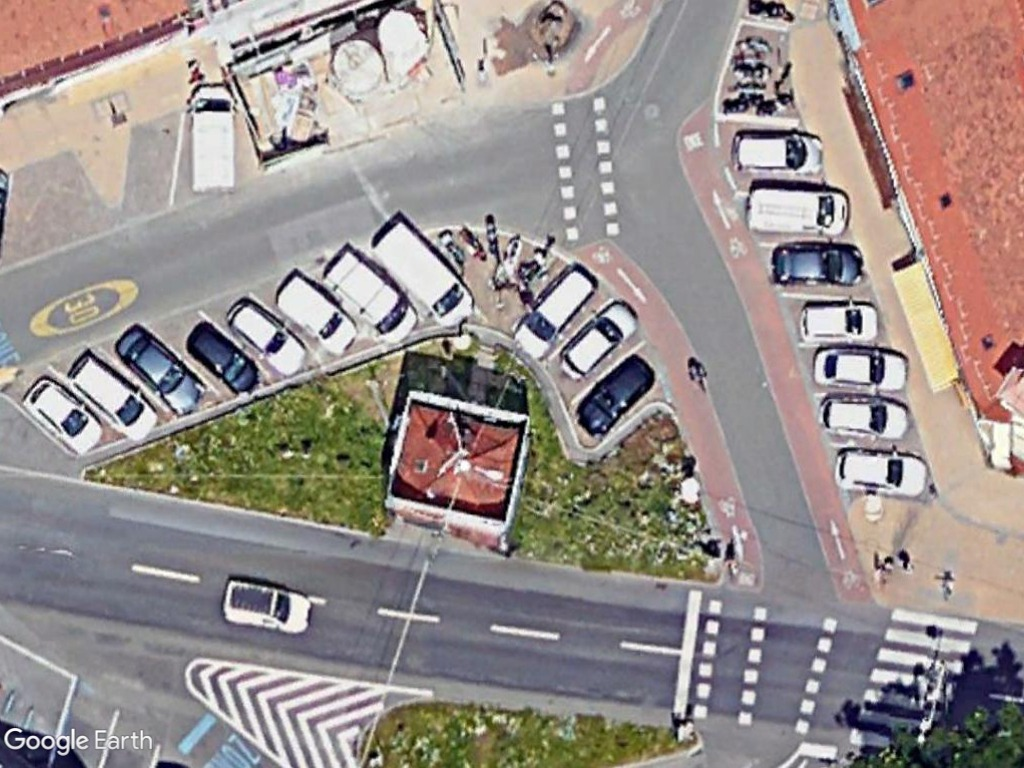car: (111, 321, 216, 414), (67, 343, 159, 445), (508, 261, 598, 365), (217, 292, 308, 379), (556, 294, 642, 381), (575, 351, 658, 440), (24, 375, 108, 458), (182, 318, 268, 394), (768, 237, 872, 293), (826, 446, 933, 499), (807, 340, 917, 391), (727, 124, 828, 178), (816, 389, 914, 440), (793, 297, 883, 347)
van: (362, 214, 479, 324), (316, 243, 414, 346), (270, 270, 362, 356), (738, 179, 855, 245), (216, 570, 318, 639)
